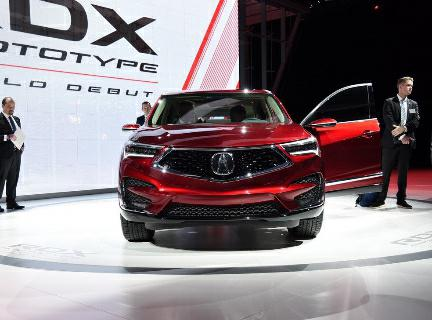讴歌-RDX: (119, 87, 330, 252)
